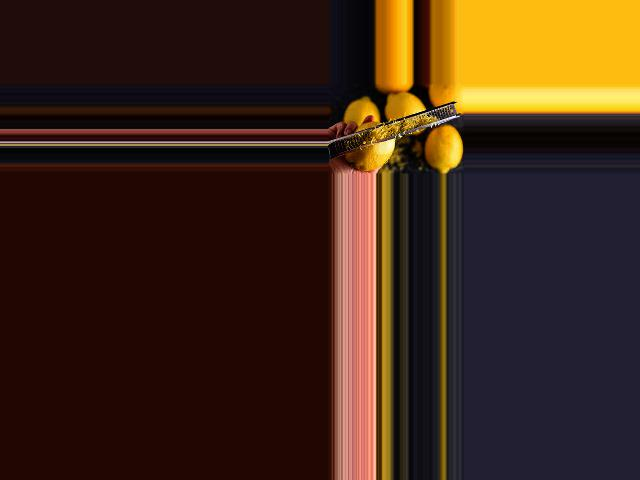lemon: (416, 125, 462, 172)
